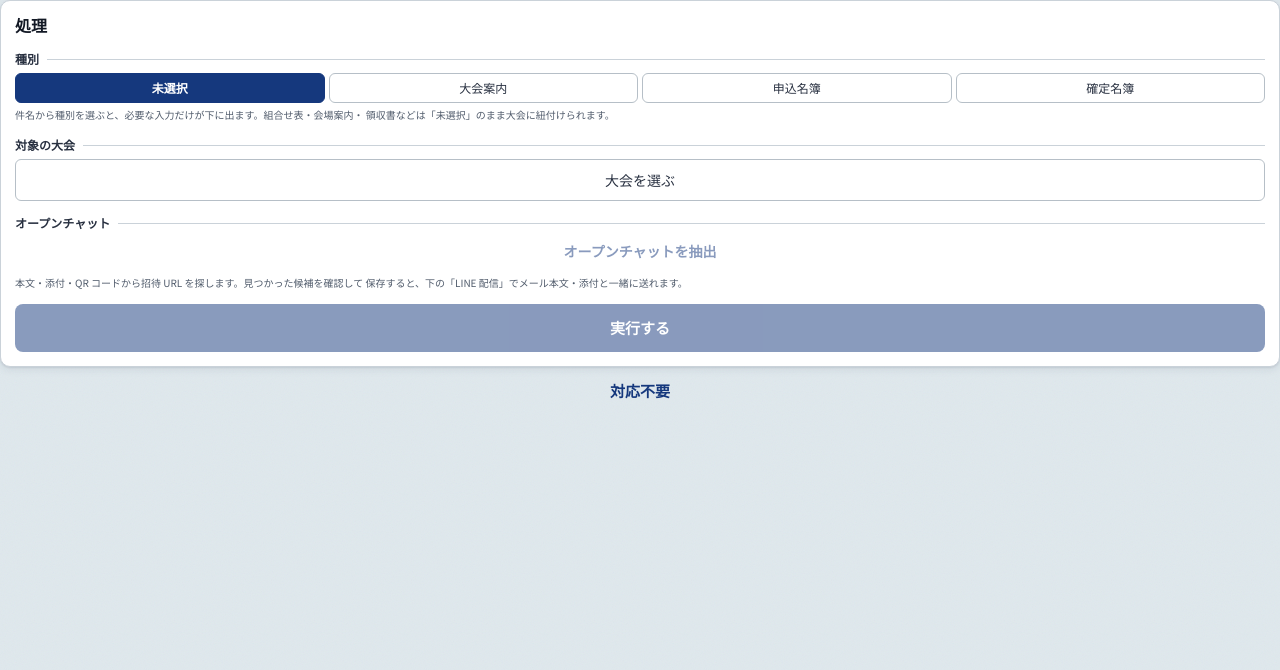
Test: MailProcessForm — 会計へ振込連絡 › 人数が全級0だと実行できない
Click the button "確定名簿" at [1110, 88], box [956,73,1265,103]
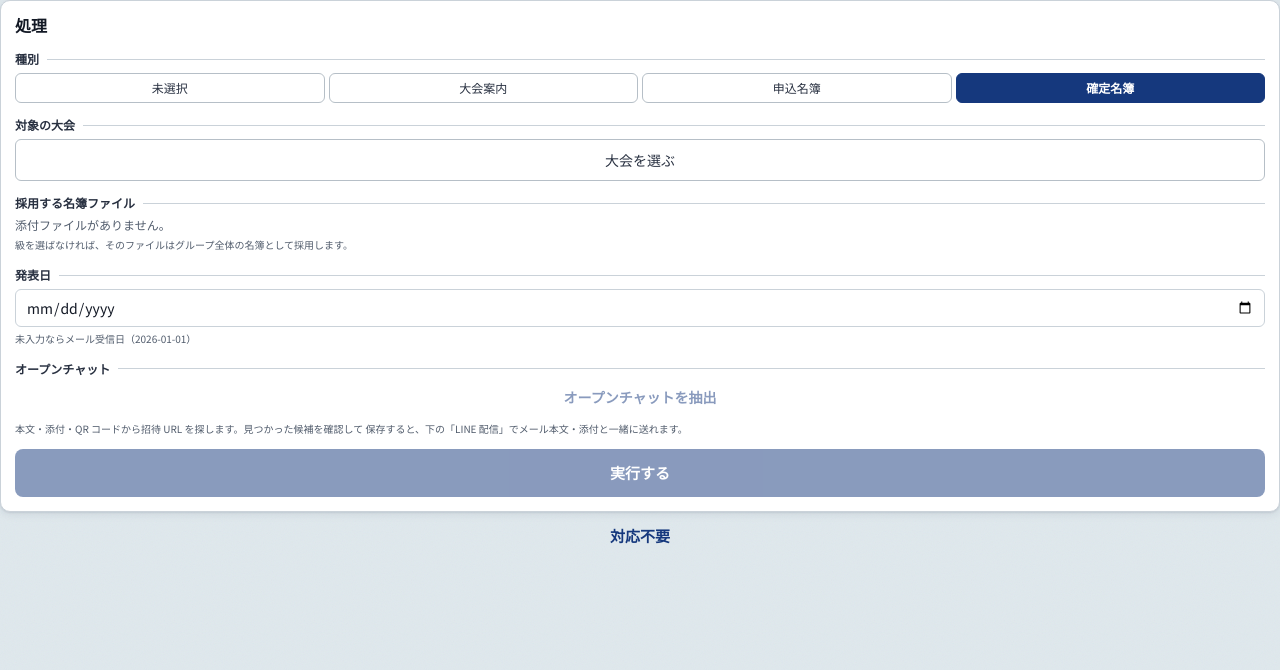
Click the button "大会を選ぶ" at [640, 160], box [15,139,1265,181]
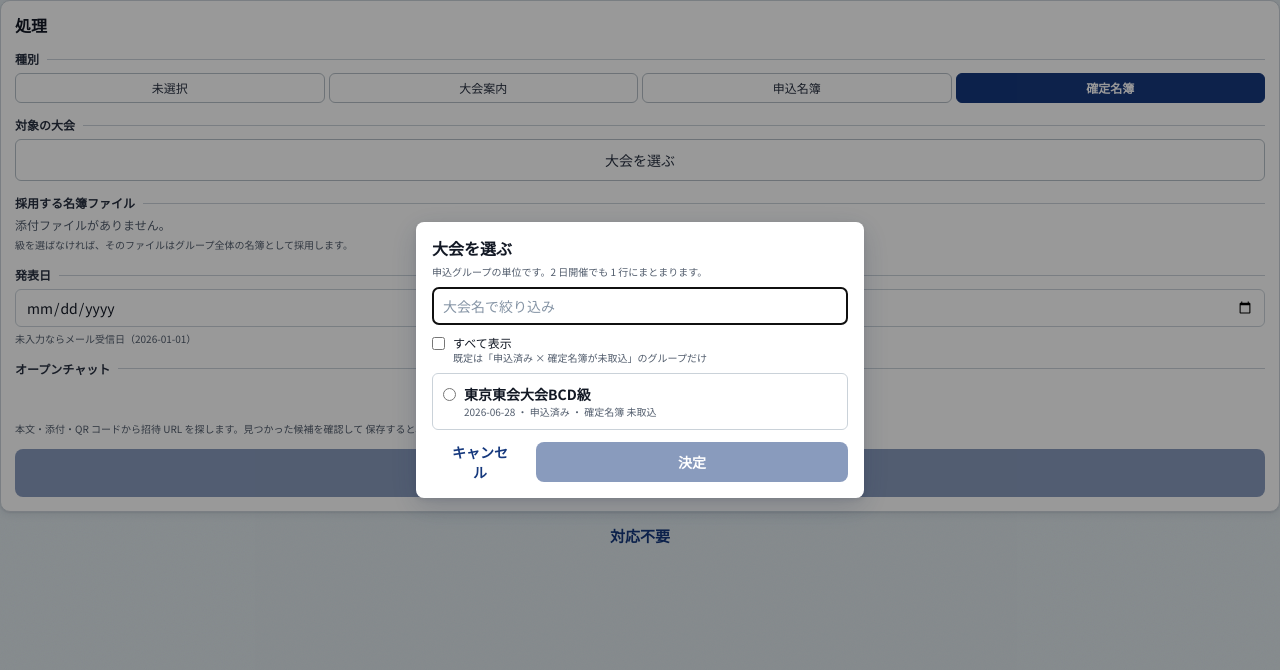
Click the radio button at [450, 394], box [443,388,456,401]
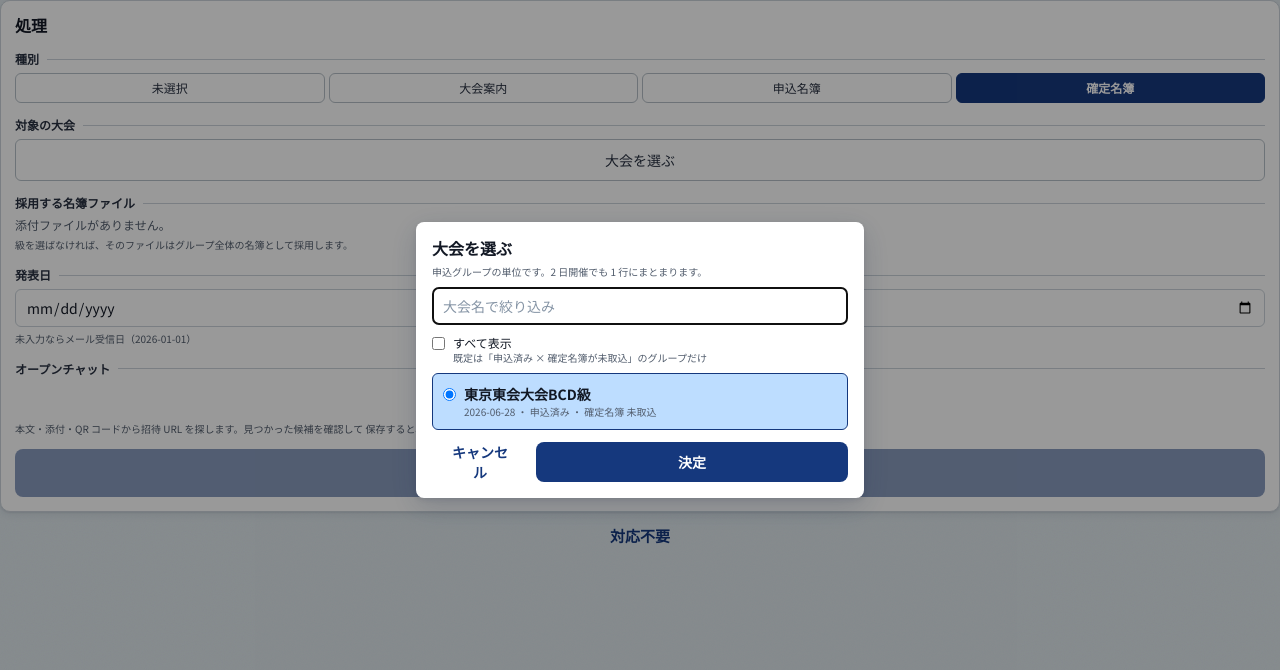
Click the button "決定" at [692, 462], box [536,442,848,482]
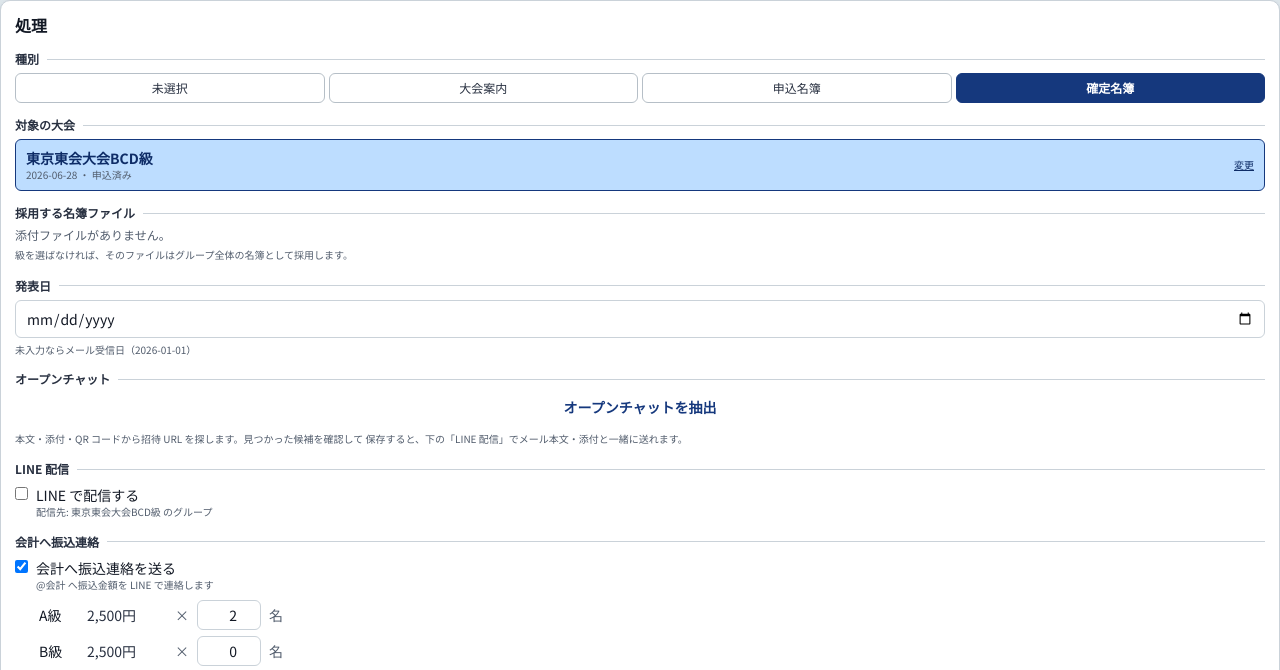
Expected: the number field named "A級の人数" is shown
Replace the text in the number field named "A級の人数" with "0" at [229, 615], box [197,600,261,630]
(page scrolled)
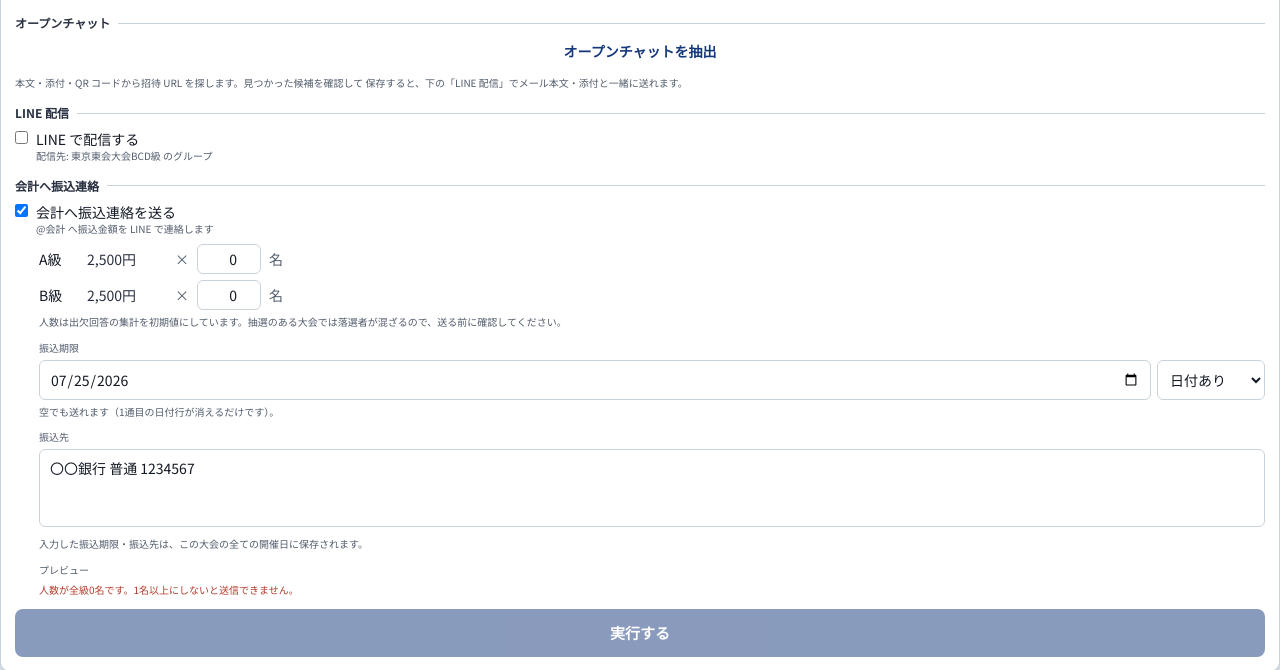
Expected: the button "実行する" is disabled, [15,609,1265,657]
